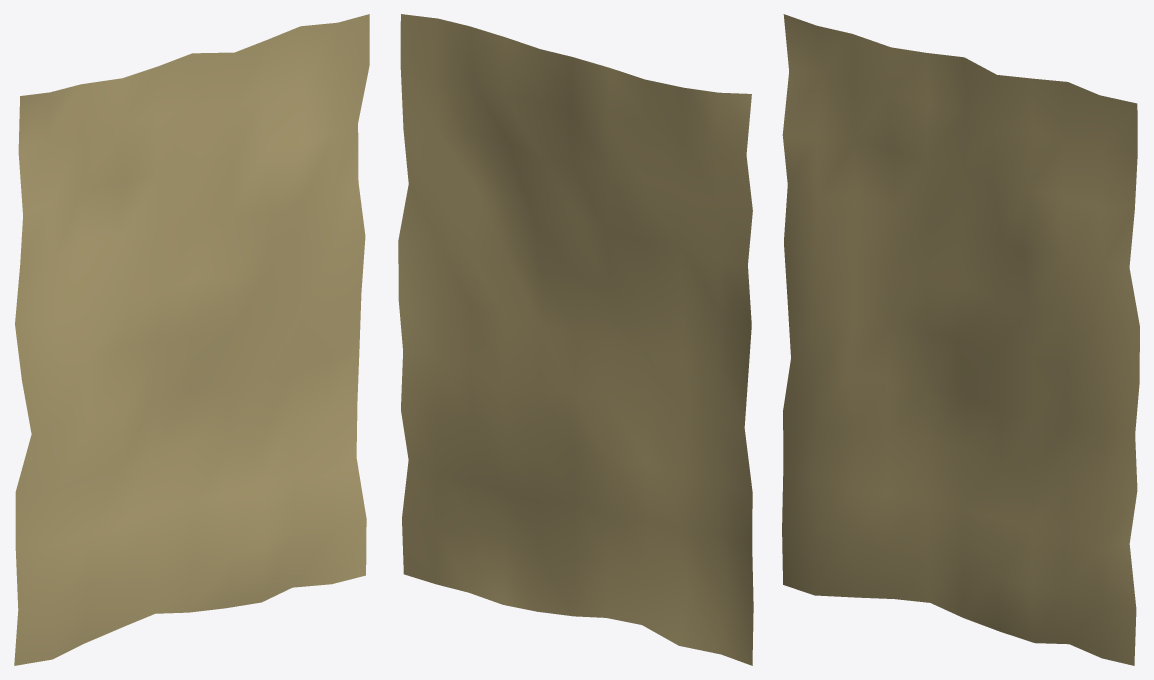
Rendered from Kartka.fbx.
The picture shows the model from 3 angles, left to right: view 1: azimuth 30°, elevation 25°; view 2: azimuth 150°, elevation 25°; view 3: azimuth 330°, elevation 25°; orthographic projection.
Parts seen in each view (by area): view 1: Plane.001; view 2: Plane.001; view 3: Plane.001.
Part boxes in pixels (left/top/right/bottom): Plane.001: left=14, top=14, right=369, bottom=665; Plane.001: left=398, top=14, right=753, bottom=665; Plane.001: left=782, top=14, right=1139, bottom=665.
Bounding box in the file's own units: 0.5042 × 0.7767 × 0.0342.
